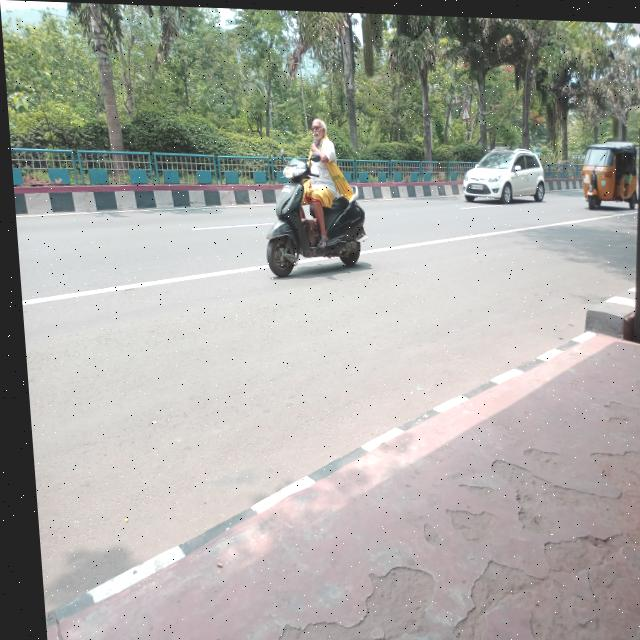bike: (246, 150, 357, 280)
car: (460, 128, 563, 249)
